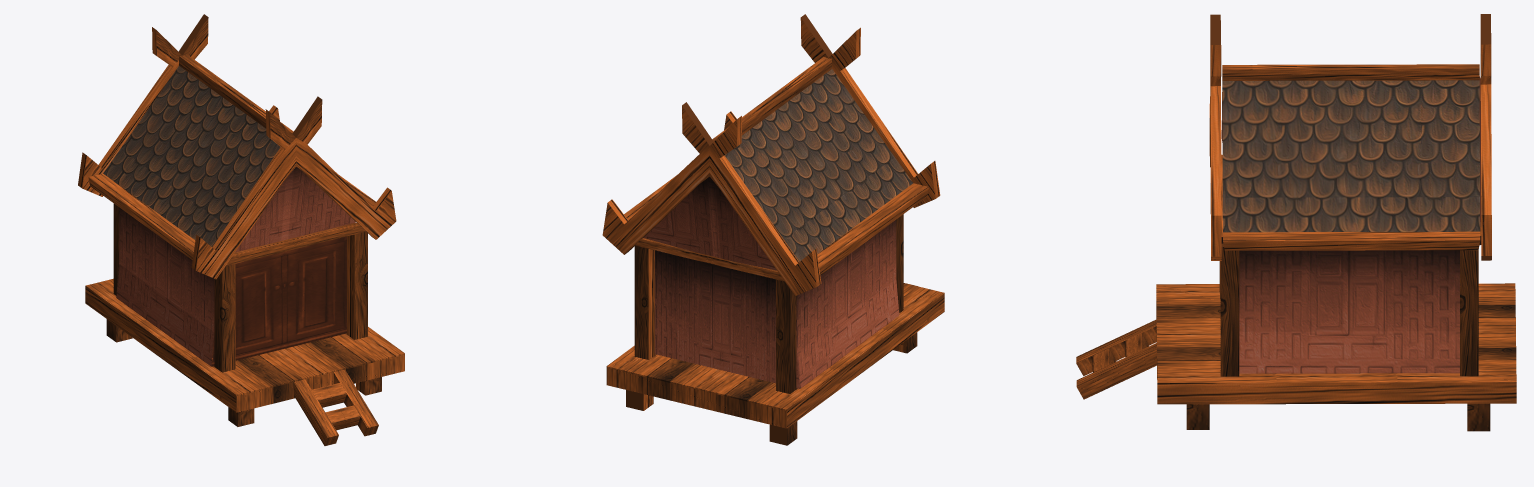
File: house.glb
3 renders of one model, left to right at view 1: azimuth 30°, elevation 25°; view 2: azimuth 150°, elevation 25°; view 3: azimuth 270°, elevation 25°, orthographic. The views are drawn at different scales.
Parts seen in each view (by area): view 1: Cube.004_0; view 2: Cube.004_0; view 3: Cube.004_0.
Boxes of the visible parts, x1=… form: Cube.004_0: x1=78, y1=14, x2=404, y2=445; Cube.004_0: x1=602, y1=14, x2=944, y2=445; Cube.004_0: x1=1076, y1=14, x2=1516, y2=431.
Size of the model in its own units: 2.95 by 2.71 by 3.06.
Materials: 4 (4 with a texture image).
